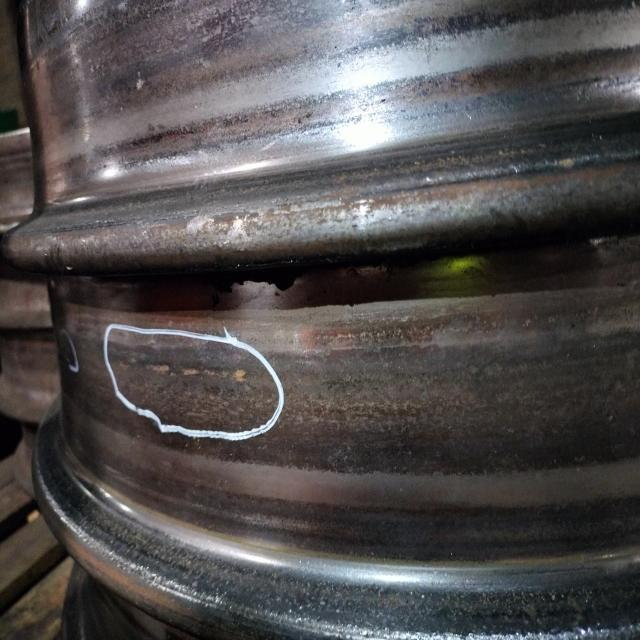Peeling: (108, 338, 272, 434)
